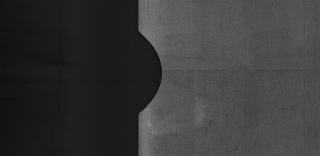welding line: (150, 64, 320, 76)
